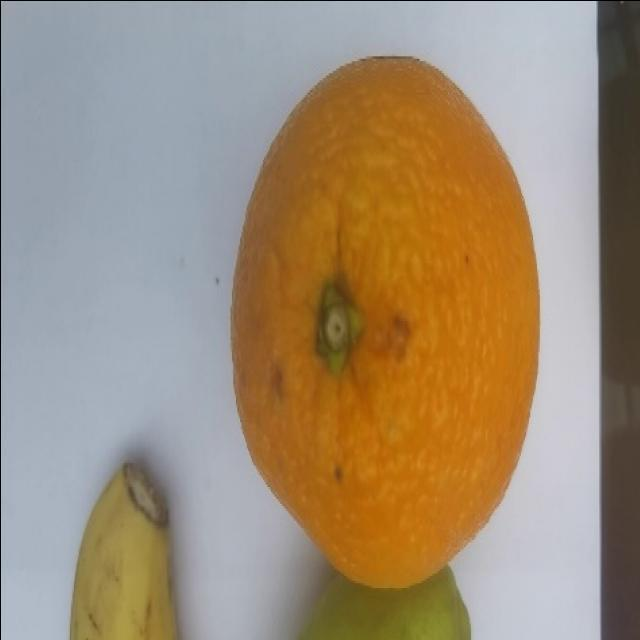Banana: (68, 461, 177, 639)
Orange: (229, 53, 541, 589)
